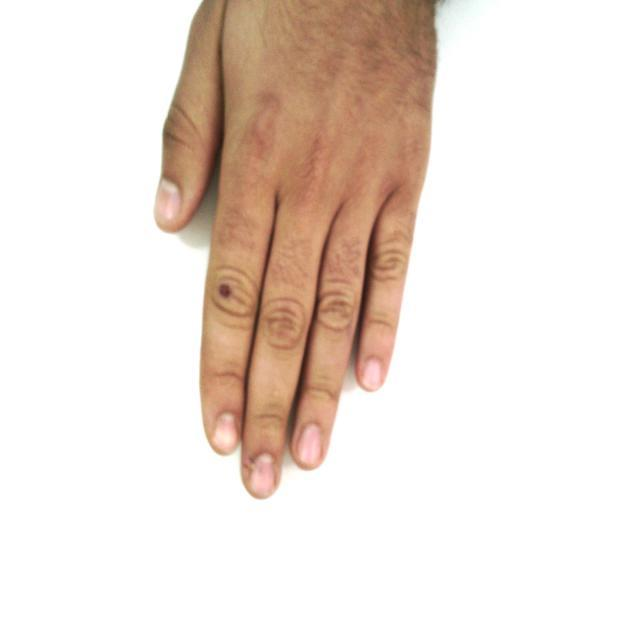Fingernail: (295, 425, 322, 466), (154, 180, 180, 221), (251, 455, 276, 497), (214, 414, 238, 451), (363, 359, 382, 387)
